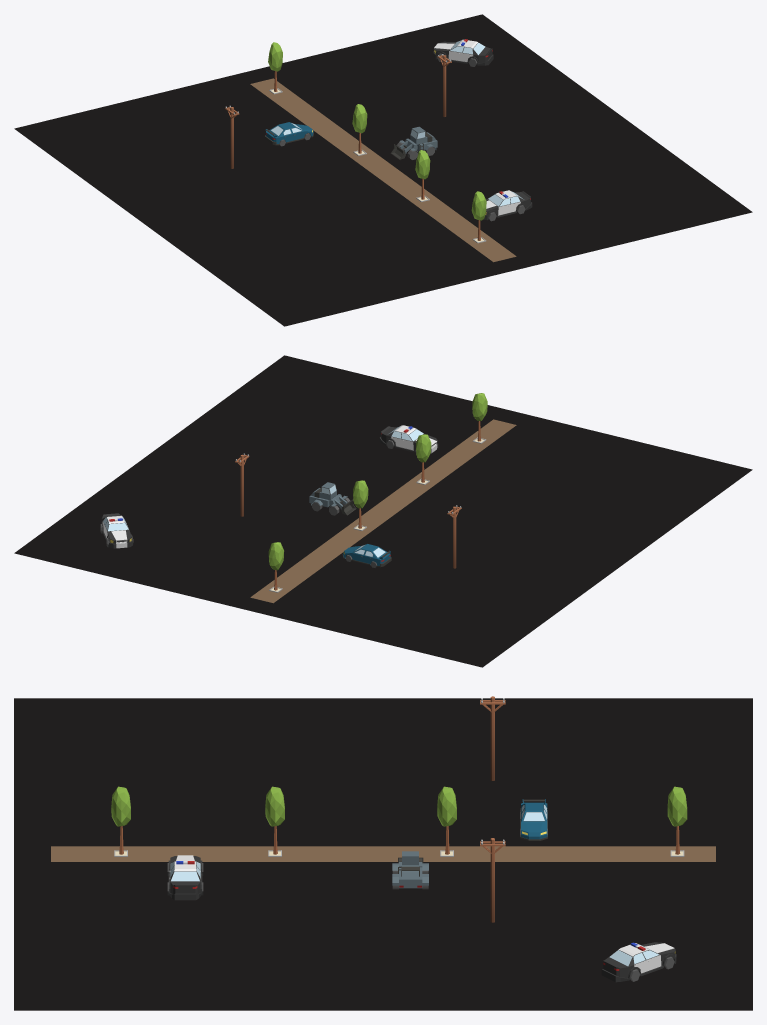
File: Tile 13_Combined_2.fbx
The picture shows the model from 3 angles, top to bottom: view 1: azimuth 30°, elevation 25°; view 2: azimuth 150°, elevation 25°; view 3: azimuth 270°, elevation 25°; orthographic projection. The views are drawn at different scales.
Parts seen in each view (by area): view 1: MeshBaker_Cluster_0_mesh_mesh; view 2: MeshBaker_Cluster_0_mesh_mesh; view 3: MeshBaker_Cluster_0_mesh_mesh.
Part boxes in pixels (left/top/right/bottom): MeshBaker_Cluster_0_mesh_mesh: left=14, top=14, right=752, bottom=326; MeshBaker_Cluster_0_mesh_mesh: left=14, top=355, right=752, bottom=667; MeshBaker_Cluster_0_mesh_mesh: left=14, top=696, right=752, bottom=1010.
Bounding box in the file's own units: 3000 × 371 × 3000.
